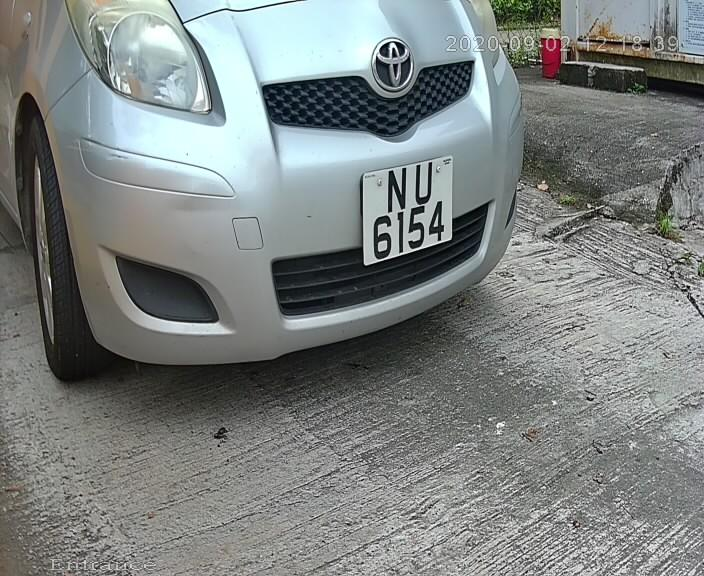License Plate: (356, 145, 459, 281)
